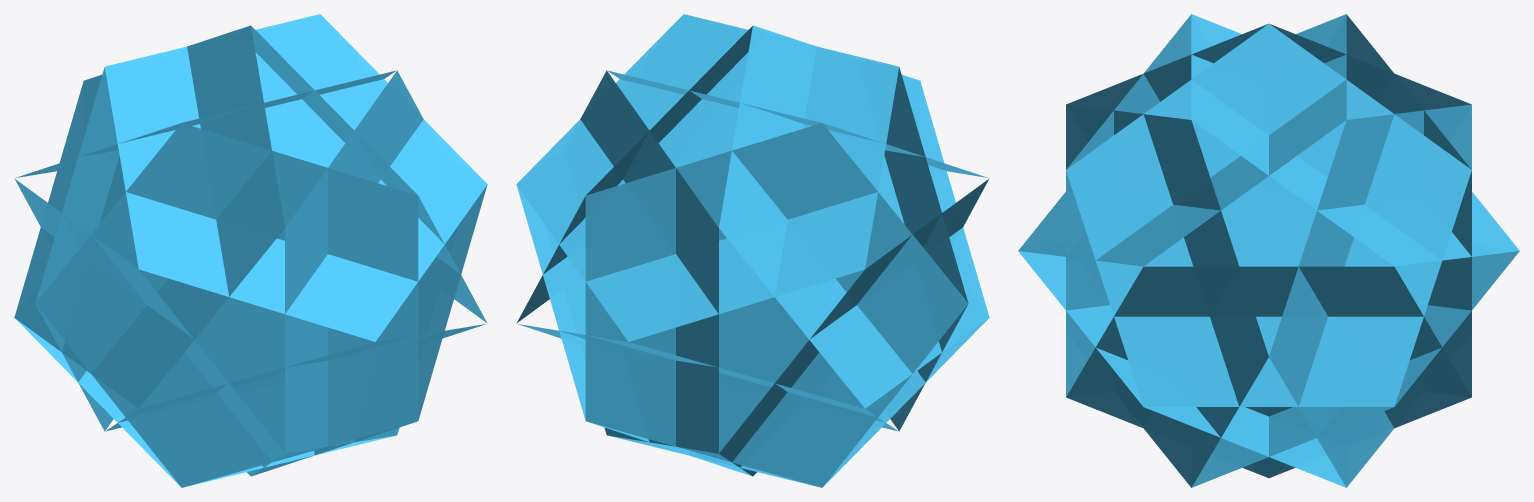
File: DodecadodecahedronA.obj
The picture shows the model from 3 angles, left to right: view 1: azimuth 30°, elevation 25°; view 2: azimuth 150°, elevation 25°; view 3: azimuth 270°, elevation 25°; orthographic projection.
Bounding box in the file's own units: 2 × 2 × 2.
